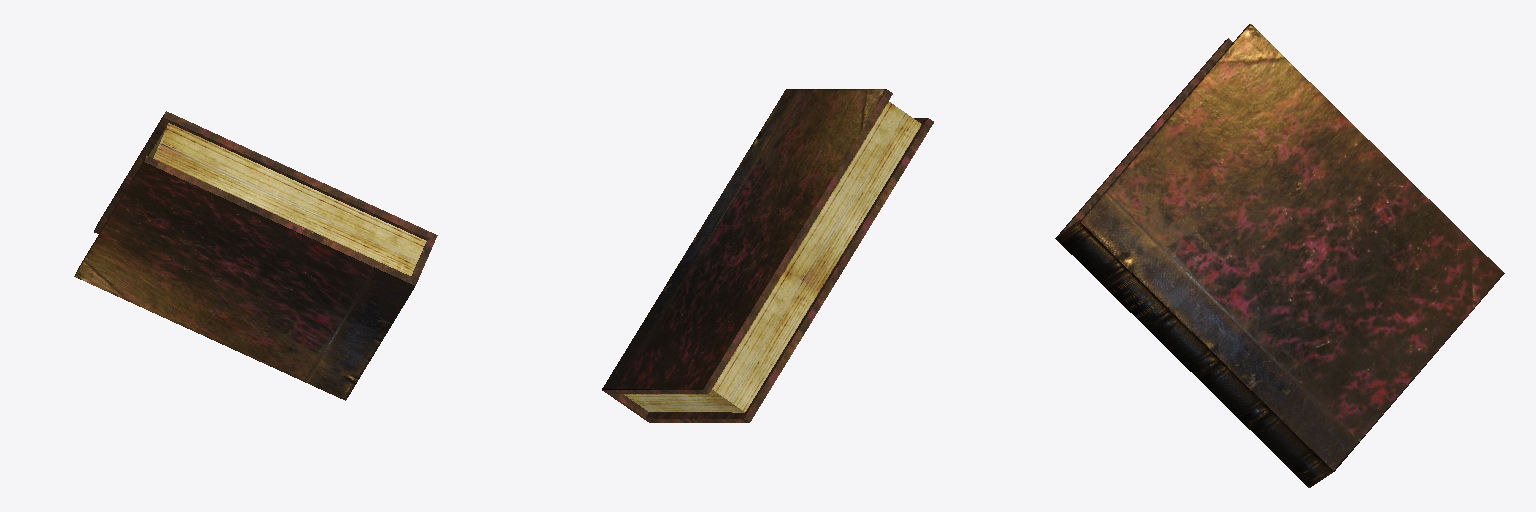
3 renders of one model, left to right at view 1: azimuth 30°, elevation 25°; view 2: azimuth 150°, elevation 25°; view 3: azimuth 270°, elevation 25°, orthographic.
Visible parts, largest first — view 1: book2_obj0; view 2: book2_obj0; view 3: book2_obj0.
Part boxes in pixels (bbox=[...]): book2_obj0: bbox=[74, 111, 437, 400]; book2_obj0: bbox=[602, 89, 933, 422]; book2_obj0: bbox=[1055, 24, 1504, 487].
Bounding box in the file's own units: 0.7861 × 0.9781 × 1.1.
Materials: 1 (1 with a texture image).